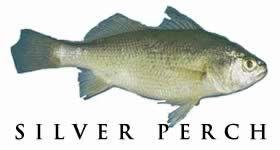Silver Perch: (11, 6, 270, 127)
